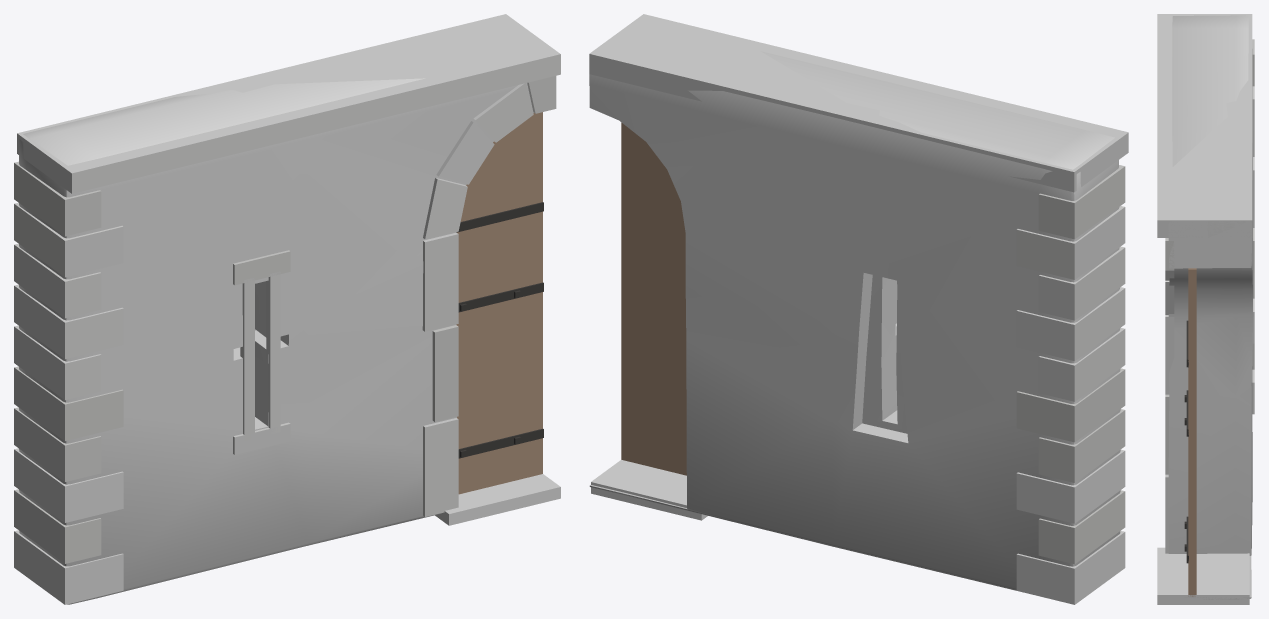
File: Kit_RealKeep_W1FL.fbx
The picture shows the model from 3 angles, left to right: view 1: azimuth 30°, elevation 25°; view 2: azimuth 150°, elevation 25°; view 3: azimuth 270°, elevation 25°; orthographic projection. The views are drawn at different scales.
Visible parts, largest first — view 1: Kit_RealKeep_W1FL_LOD0; view 2: Kit_RealKeep_W1FL_LOD0; view 3: Kit_RealKeep_W1FL_LOD0.
Part boxes in pixels (<box>): Kit_RealKeep_W1FL_LOD0: <box>14,14,560,604</box>; Kit_RealKeep_W1FL_LOD0: <box>589,14,1128,604</box>; Kit_RealKeep_W1FL_LOD0: <box>1157,14,1254,604</box>.
Size of what is drawn, in the model's own units: 3.51 by 3.04 by 0.695.
